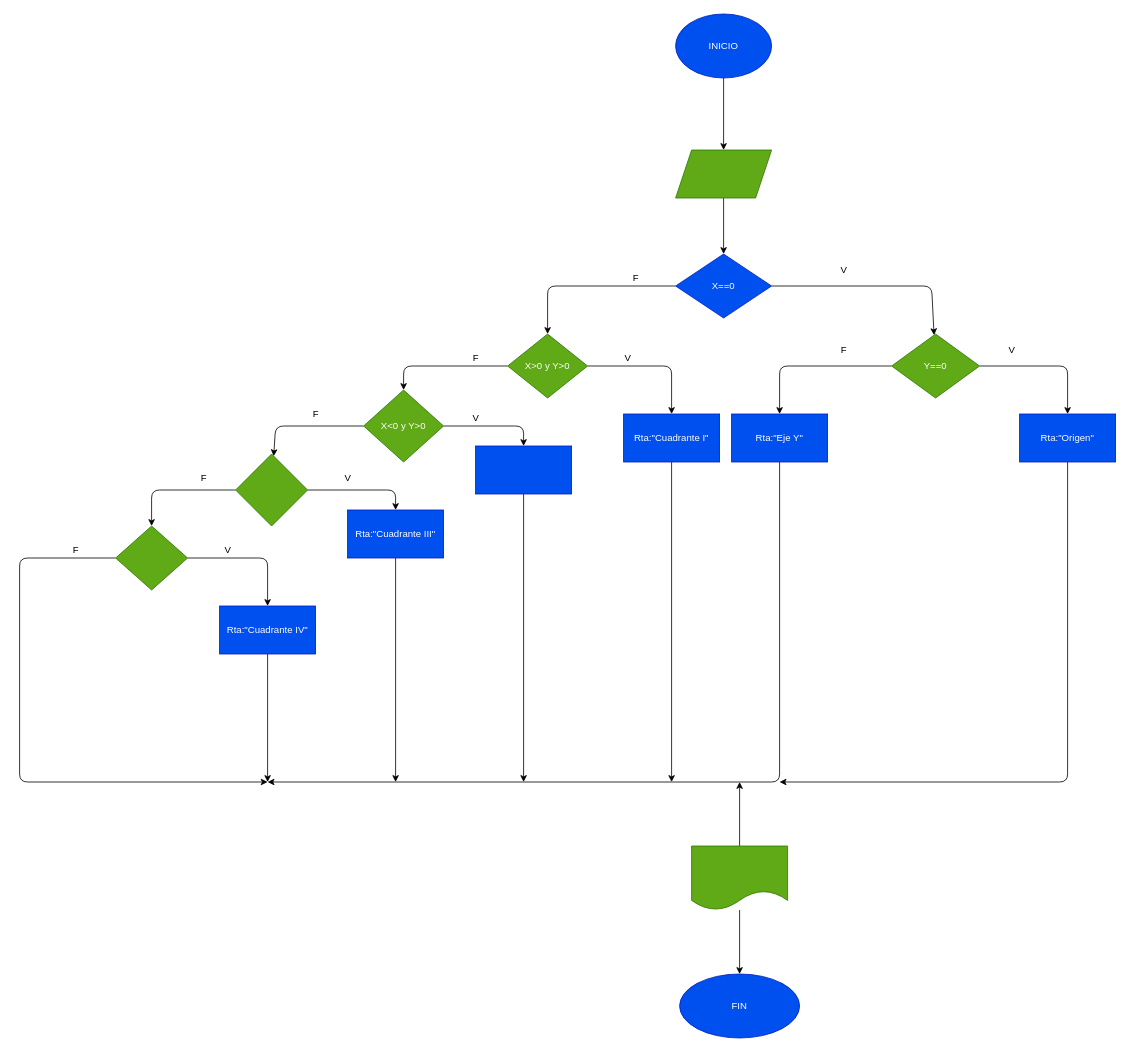
This 1130x1052 diagram has some shape labels left out. The shapes that lost their labels are listed below. From the top down, each one's centre as x and y in pixels, then its label:
point 723,173: X,Y
point 271,489: X<0 y Y<0
point 523,469: Rta:"Cuadrante II"
point 151,557: X>0 y Y<0
point 739,877: Rta
